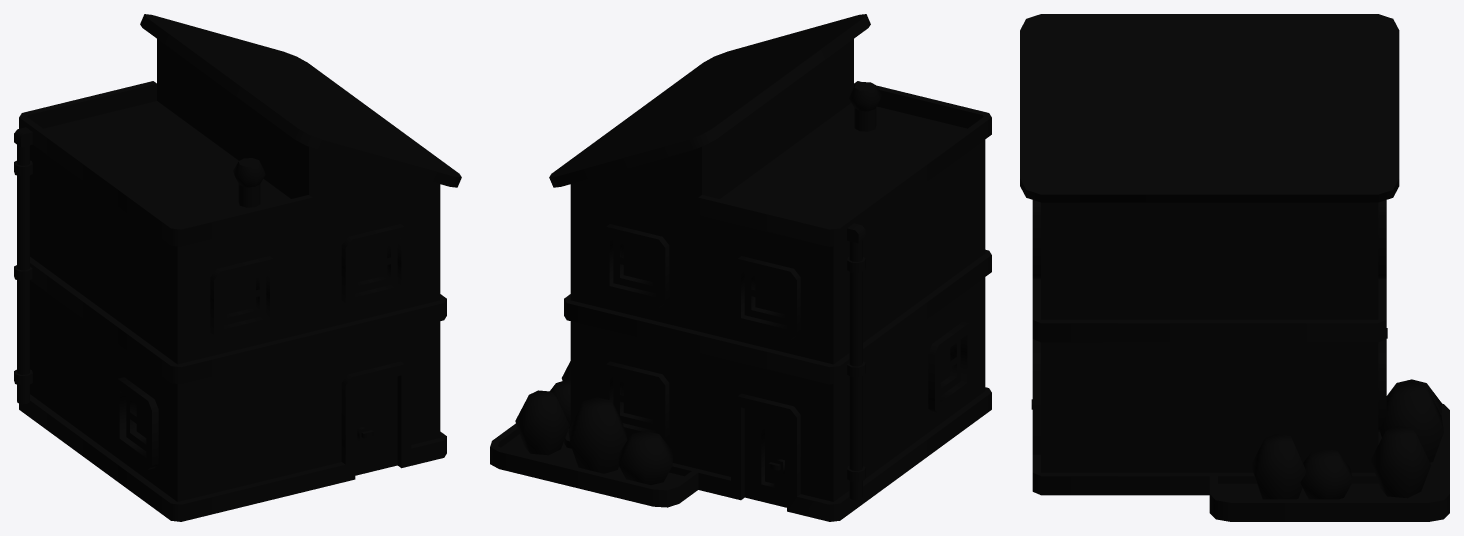
The model's file is building-type-l.glb.
The picture shows the model from 3 angles, left to right: view 1: azimuth 30°, elevation 25°; view 2: azimuth 150°, elevation 25°; view 3: azimuth 270°, elevation 25°; orthographic projection. The views are drawn at different scales.
Visible parts, largest first — view 1: building-type-l; view 2: building-type-l; view 3: building-type-l.
Boxes of the visible parts, bbox=[...] form: building-type-l: bbox=[14, 14, 461, 521]; building-type-l: bbox=[490, 14, 991, 521]; building-type-l: bbox=[1020, 14, 1449, 521].
Size of the model in its own units: 1.03 by 1.05 by 1.02.
1 material, 1 textured.
